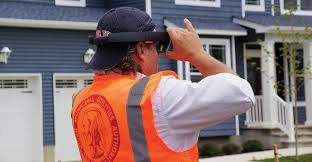hololens: (88, 28, 177, 57)
